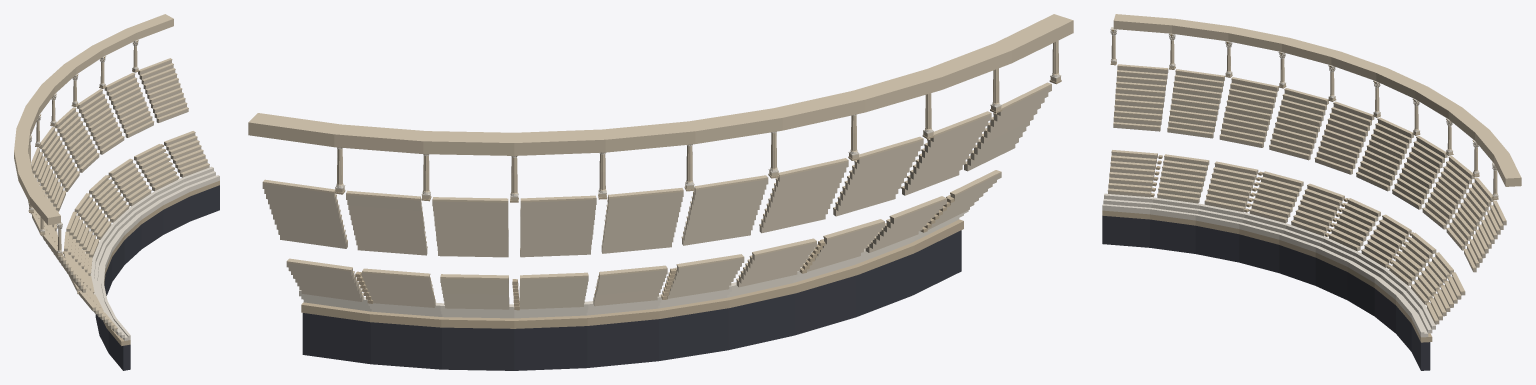
Rendered from COL_CaveaSeating_Q3.glb.
3 renders of one model, left to right at view 1: azimuth 30°, elevation 25°; view 2: azimuth 150°, elevation 25°; view 3: azimuth 270°, elevation 25°, orthographic. The views are drawn at different scales.
Parts seen in each view (by area): view 1: COL_CaveaSeating_Q3; view 2: COL_CaveaSeating_Q3; view 3: COL_CaveaSeating_Q3.
Part boxes in pixels (left/top/right/bottom): COL_CaveaSeating_Q3: left=14, top=14, right=219, bottom=370; COL_CaveaSeating_Q3: left=248, top=14, right=1073, bottom=370; COL_CaveaSeating_Q3: left=1102, top=14, right=1521, bottom=370.
Size of the model in its own units: 113 by 58.2 by 118.
